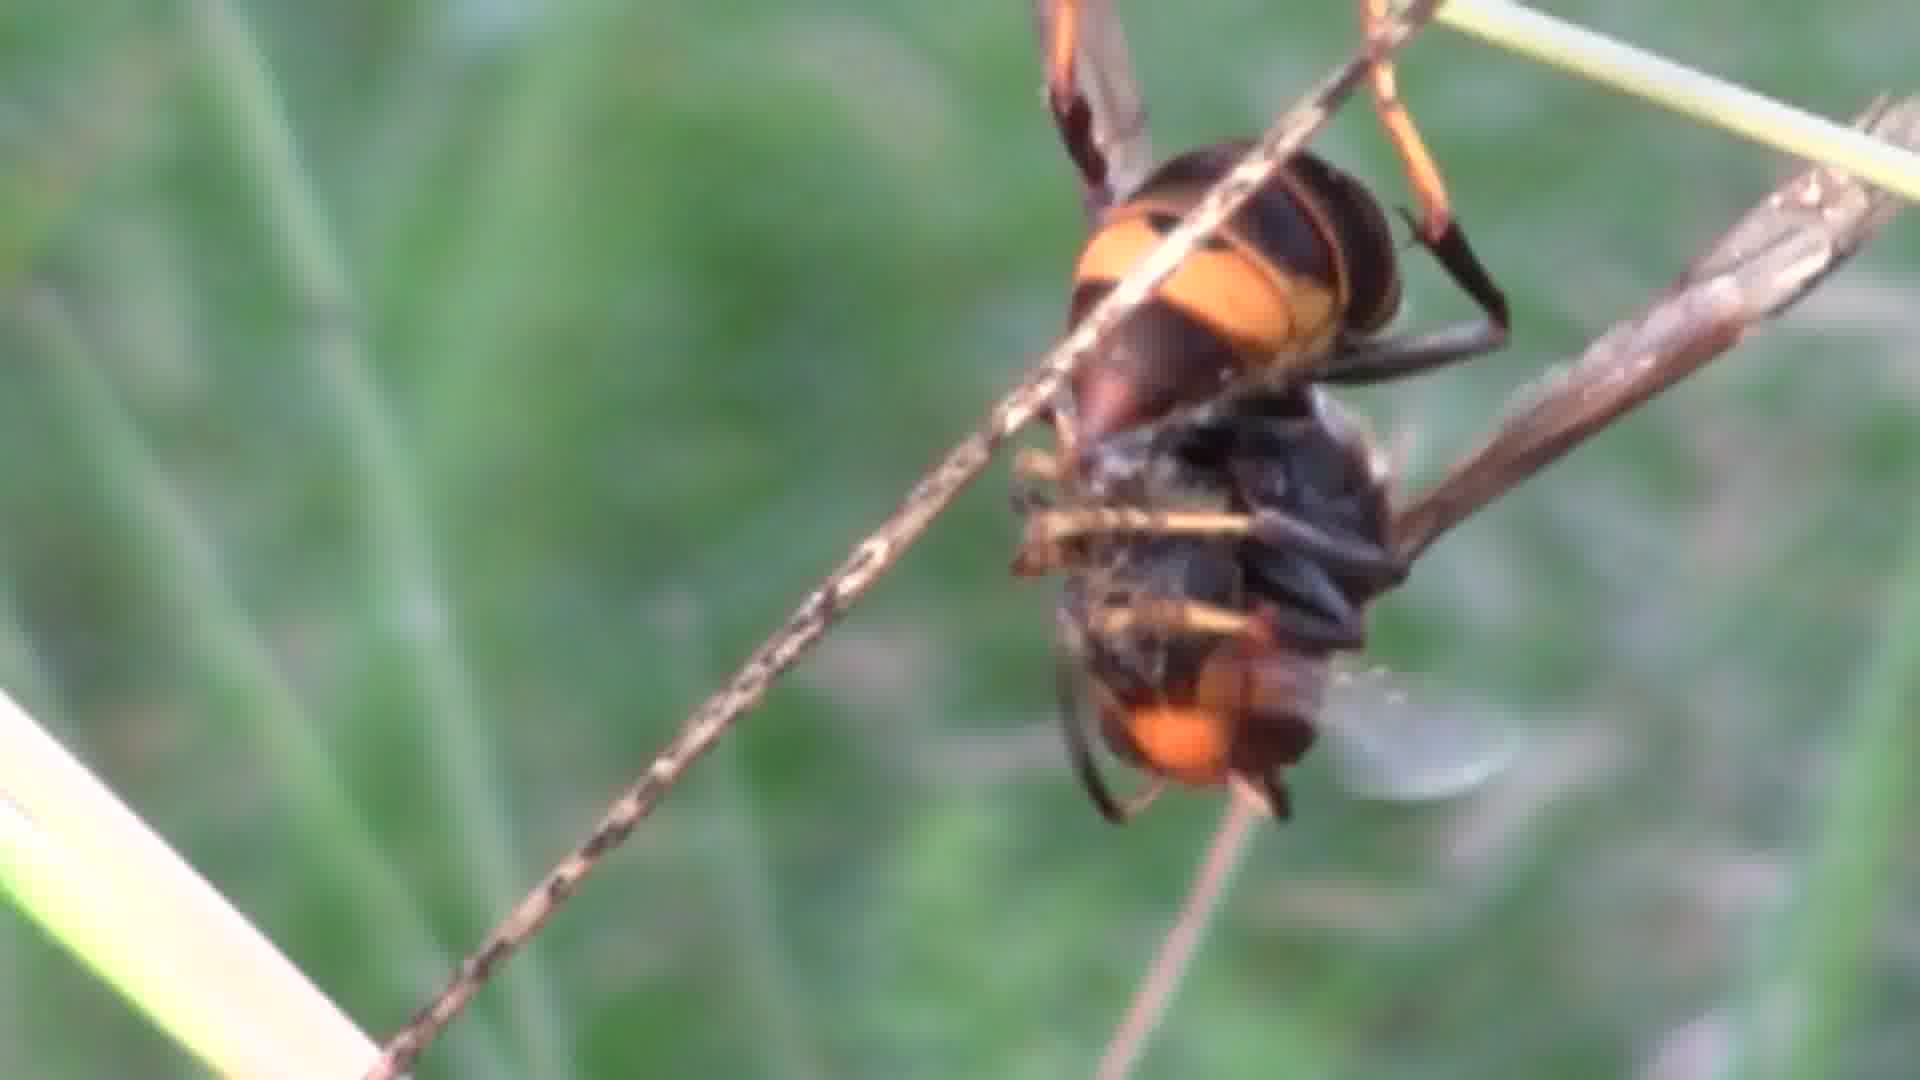hornet: (948, 1, 1535, 837)
